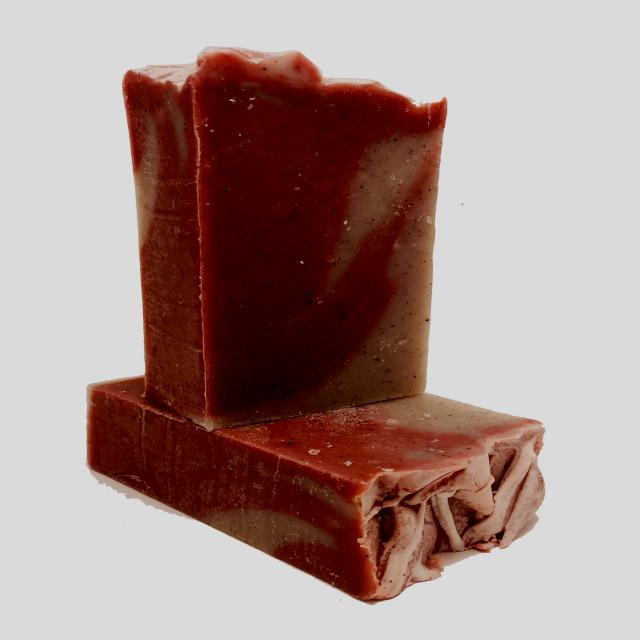soap: (74, 34, 459, 418), (70, 360, 566, 584)
